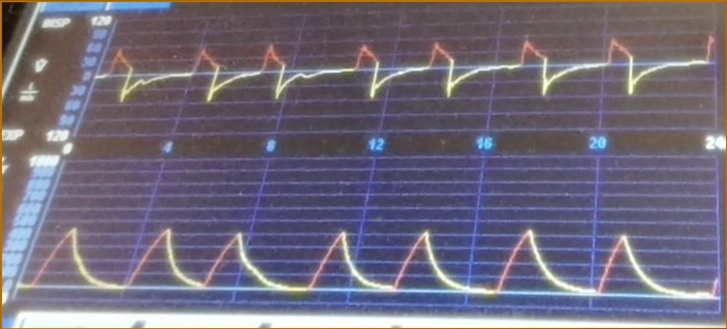Premature_cycling Flow: (104, 26, 715, 126)
Premature_cycling Volume: (35, 221, 717, 308)
